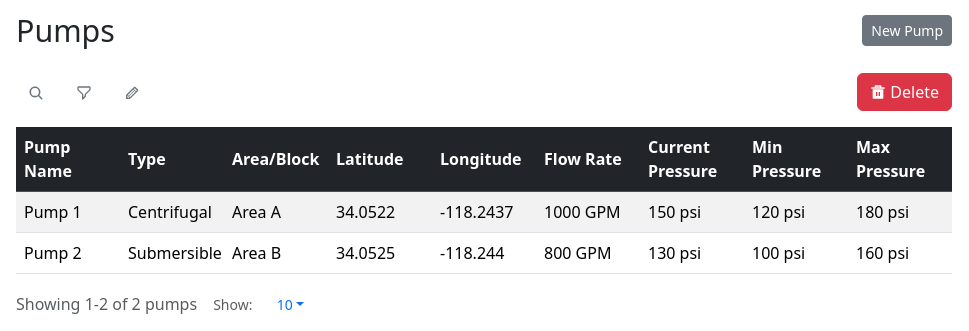
Test: PumpsPage › Delete functionality › should enter delete mode and allow pump selection
Note: Click delete button to enter delete mode
Click the button "Delete" at [905, 92], box [857,72,952,110]
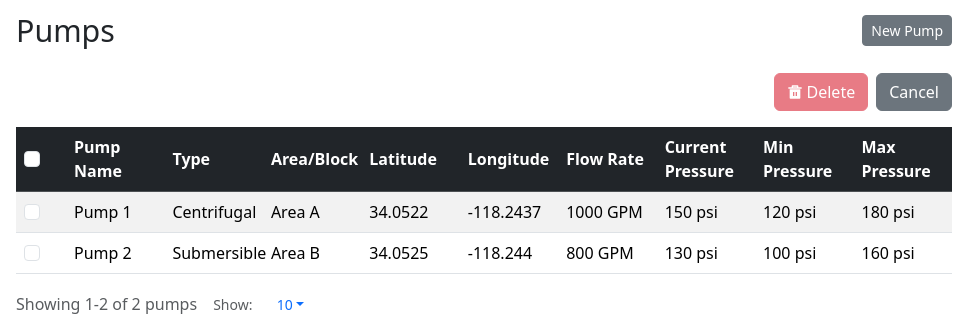
Expected: the checkbox next to "Pump Name" is shown, [24,150,40,166]
Expected: the button "Cancel" is shown, [876,72,952,110]
